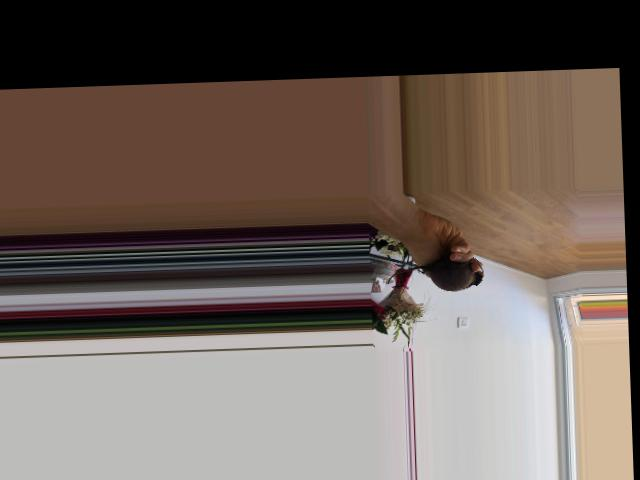beet: (387, 256, 484, 293)
